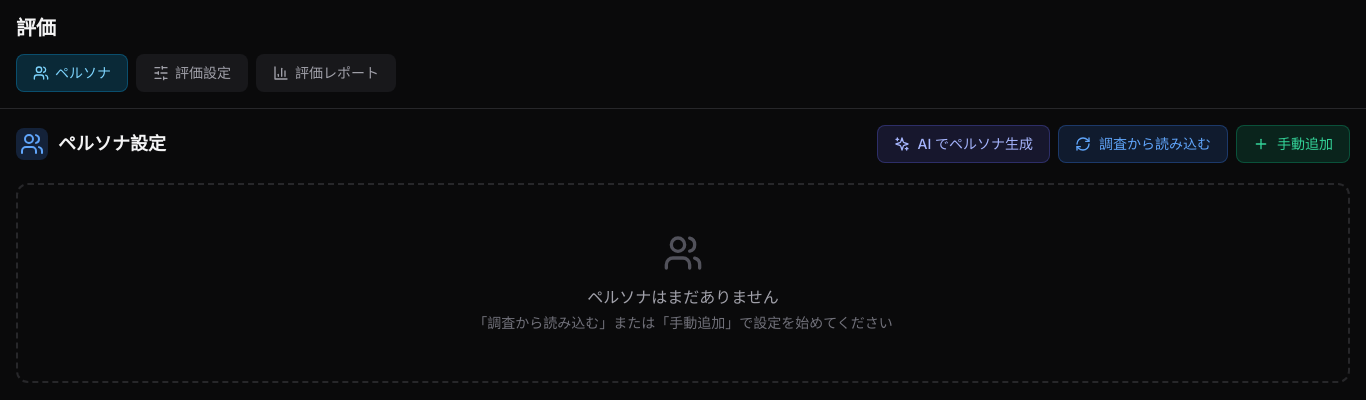
Scenario: EvalPhasePanel › renders japanese tabs and localized empty states for ja-JP projects
Expected: the heading "評価" is shown, [16,16,56,40]
Expected: the button "ペルソナ" is shown, [16,54,128,92]
Click the button "評価設定": (192, 73) [136,54,248,92]
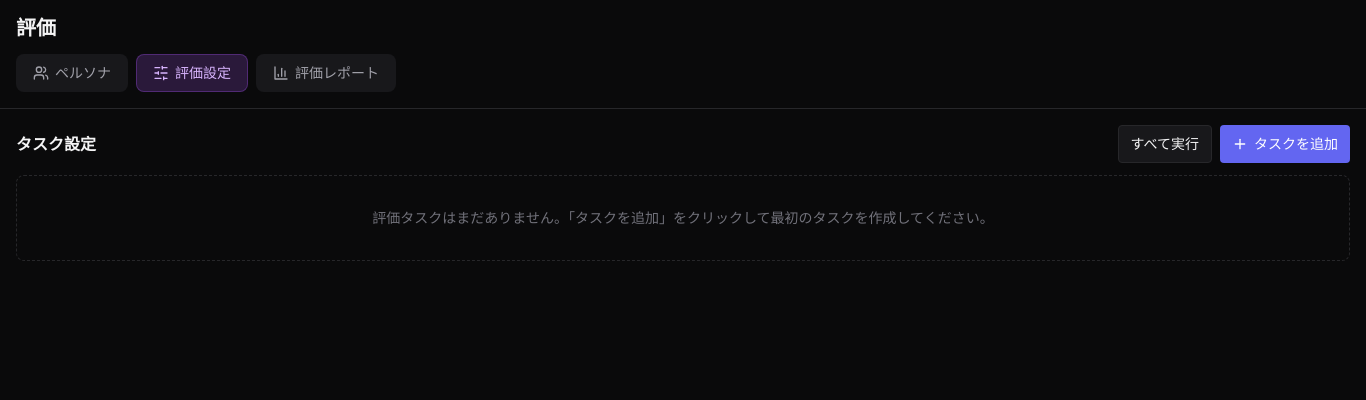
Expected: the heading "タスク設定" is shown, [16,132,96,156]
Expected: the text "評価タスクはまだありません。「タスクを追加」をクリックして最初のタスクを作成してください。" is shown, [16,175,1350,261]
Click the button "評価レポート": (326, 73) [256,54,396,92]
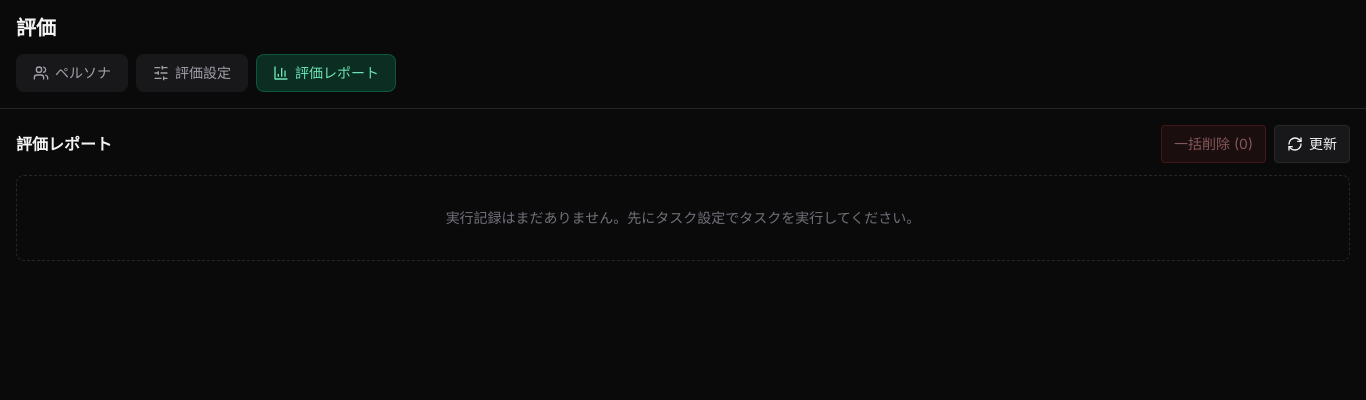
Expected: the text "実行記録はまだありません。先にタスク設定でタスクを実行してください。" is shown, [16,175,1350,261]
Expected: the button "更新" is shown, [1274,125,1350,163]
